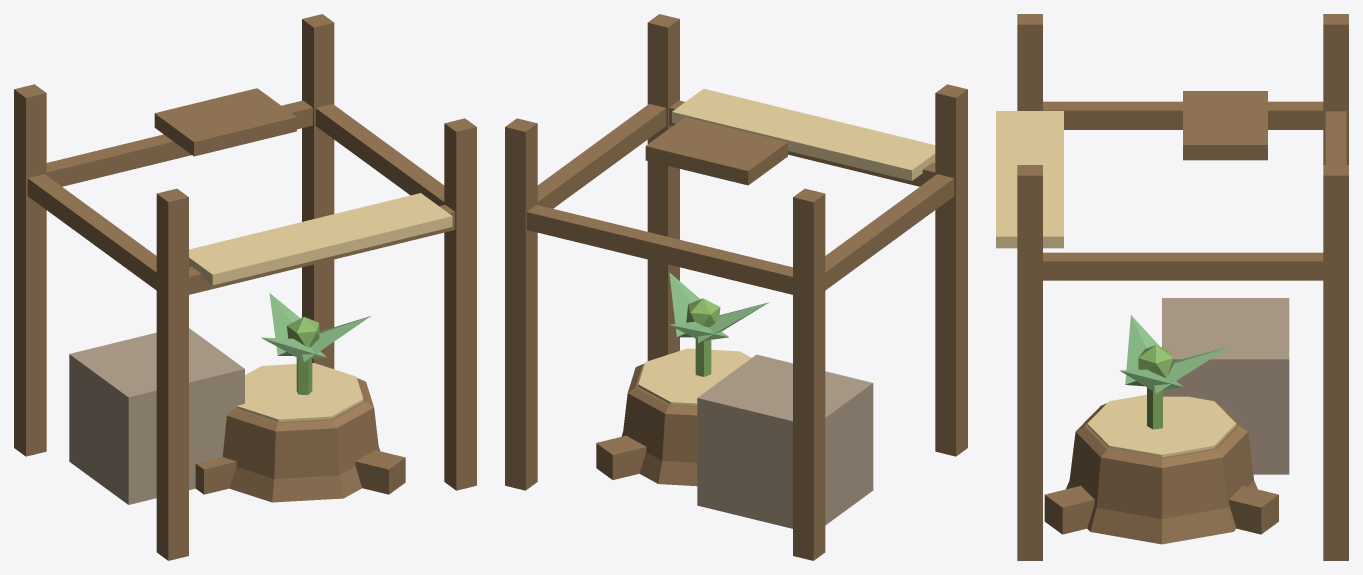
Rendered from forest-scaffold.glb.
3 views of the same model, side by side, from view 1: azimuth 30°, elevation 25°; view 2: azimuth 150°, elevation 25°; view 3: azimuth 270°, elevation 25° (orthographic). The views are drawn at different scales.
Visible parts, largest first — view 1: forest-scaffold; view 2: forest-scaffold; view 3: forest-scaffold.
Part boxes in pixels (<box>): forest-scaffold: <box>14,14,476,560</box>; forest-scaffold: <box>505,14,967,560</box>; forest-scaffold: <box>996,14,1348,560</box>.
Bounding box in the file's own units: 0.9 × 1 × 0.83.
